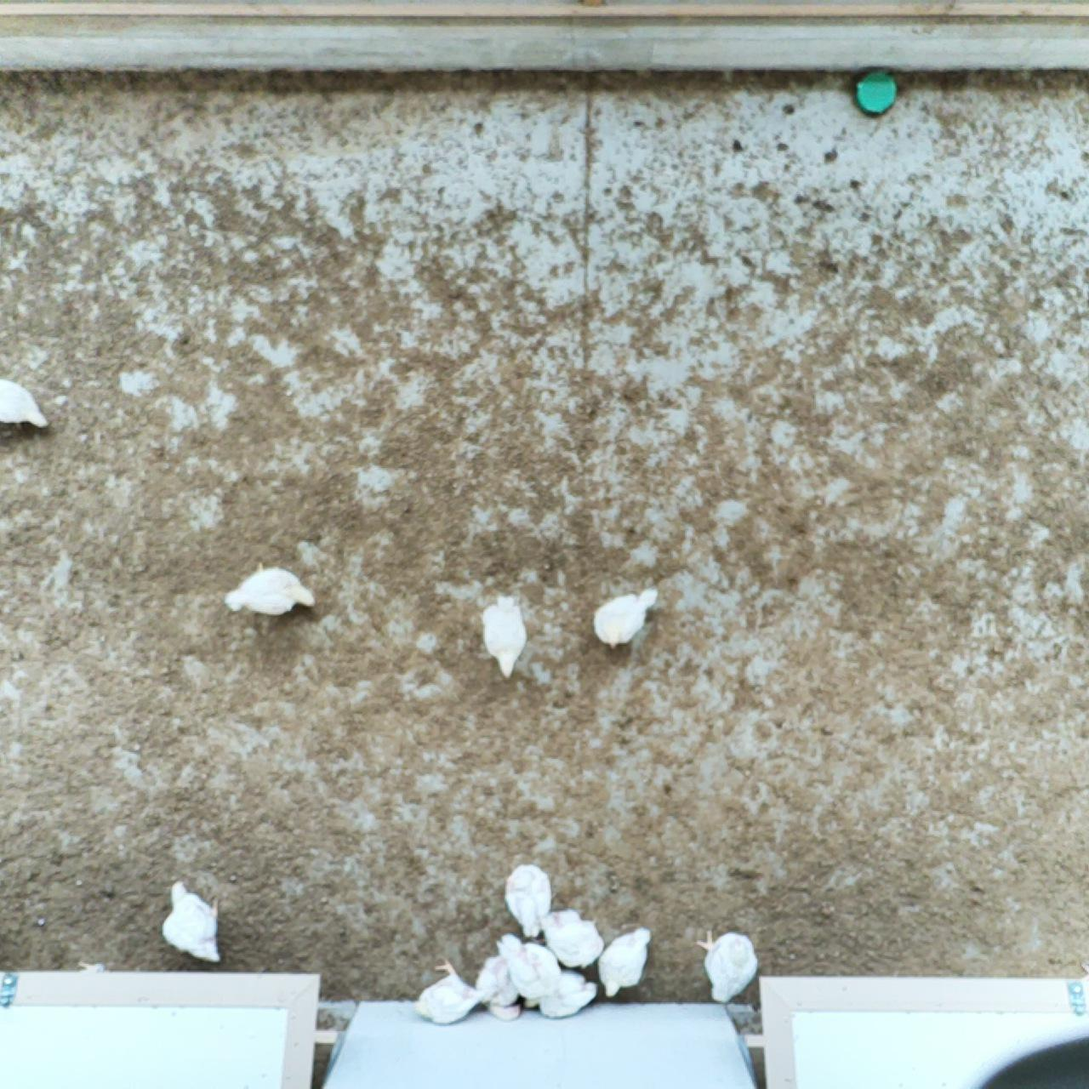chicken: (221, 558, 319, 620), (587, 583, 664, 657), (160, 875, 223, 964), (699, 926, 761, 1007), (494, 933, 566, 1001), (415, 958, 485, 1026), (476, 593, 525, 681), (600, 925, 653, 1000), (519, 972, 599, 1021), (540, 907, 604, 968), (504, 862, 553, 940), (0, 374, 57, 428), (468, 947, 518, 1005)
